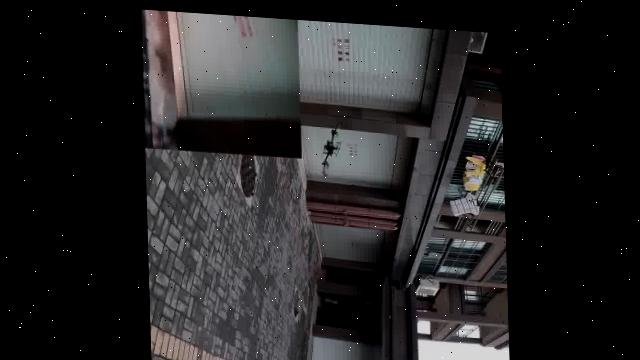drone: (316, 118, 346, 176)
